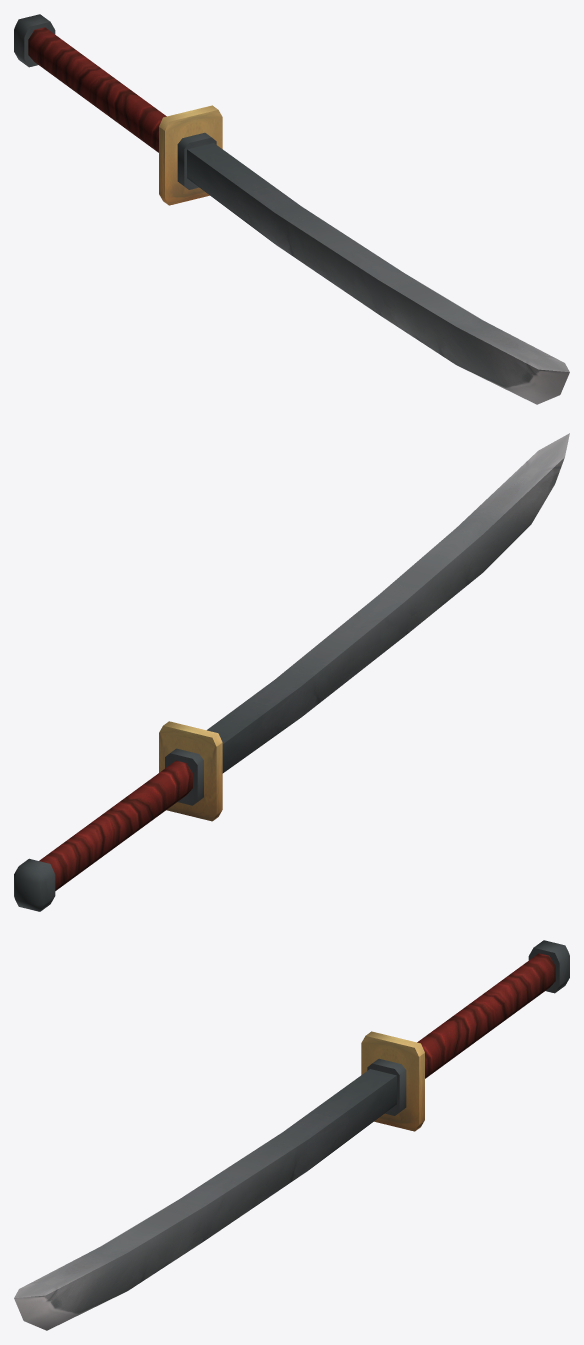
File: Katana.FBX
3 views of the same model, one above another, from view 1: azimuth 30°, elevation 25°; view 2: azimuth 150°, elevation 25°; view 3: azimuth 330°, elevation 25° (orthographic).
Parts seen in each view (by area): view 1: katana; view 2: katana; view 3: katana.
Part boxes in pixels (<box>): katana: <box>14,14,569,404</box>; katana: <box>14,433,569,911</box>; katana: <box>14,940,569,1330</box>.
Size of the model in its own units: 10.1 by 17.21 by 165.
